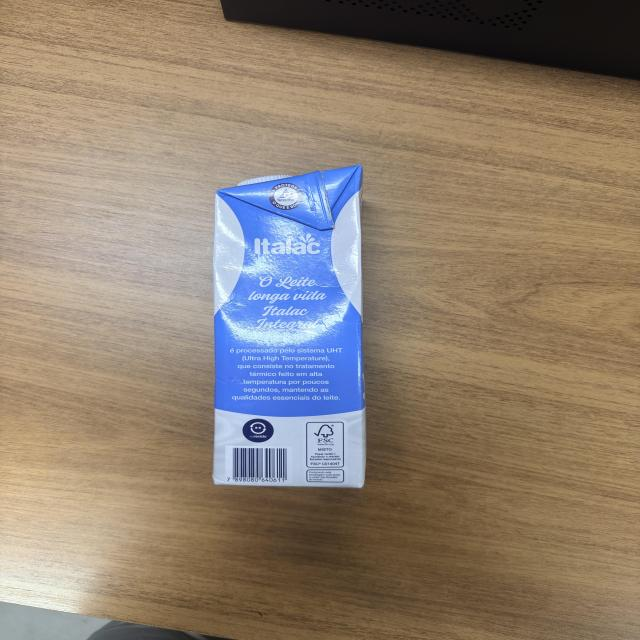Caixa de Leite: (215, 167, 369, 489)
